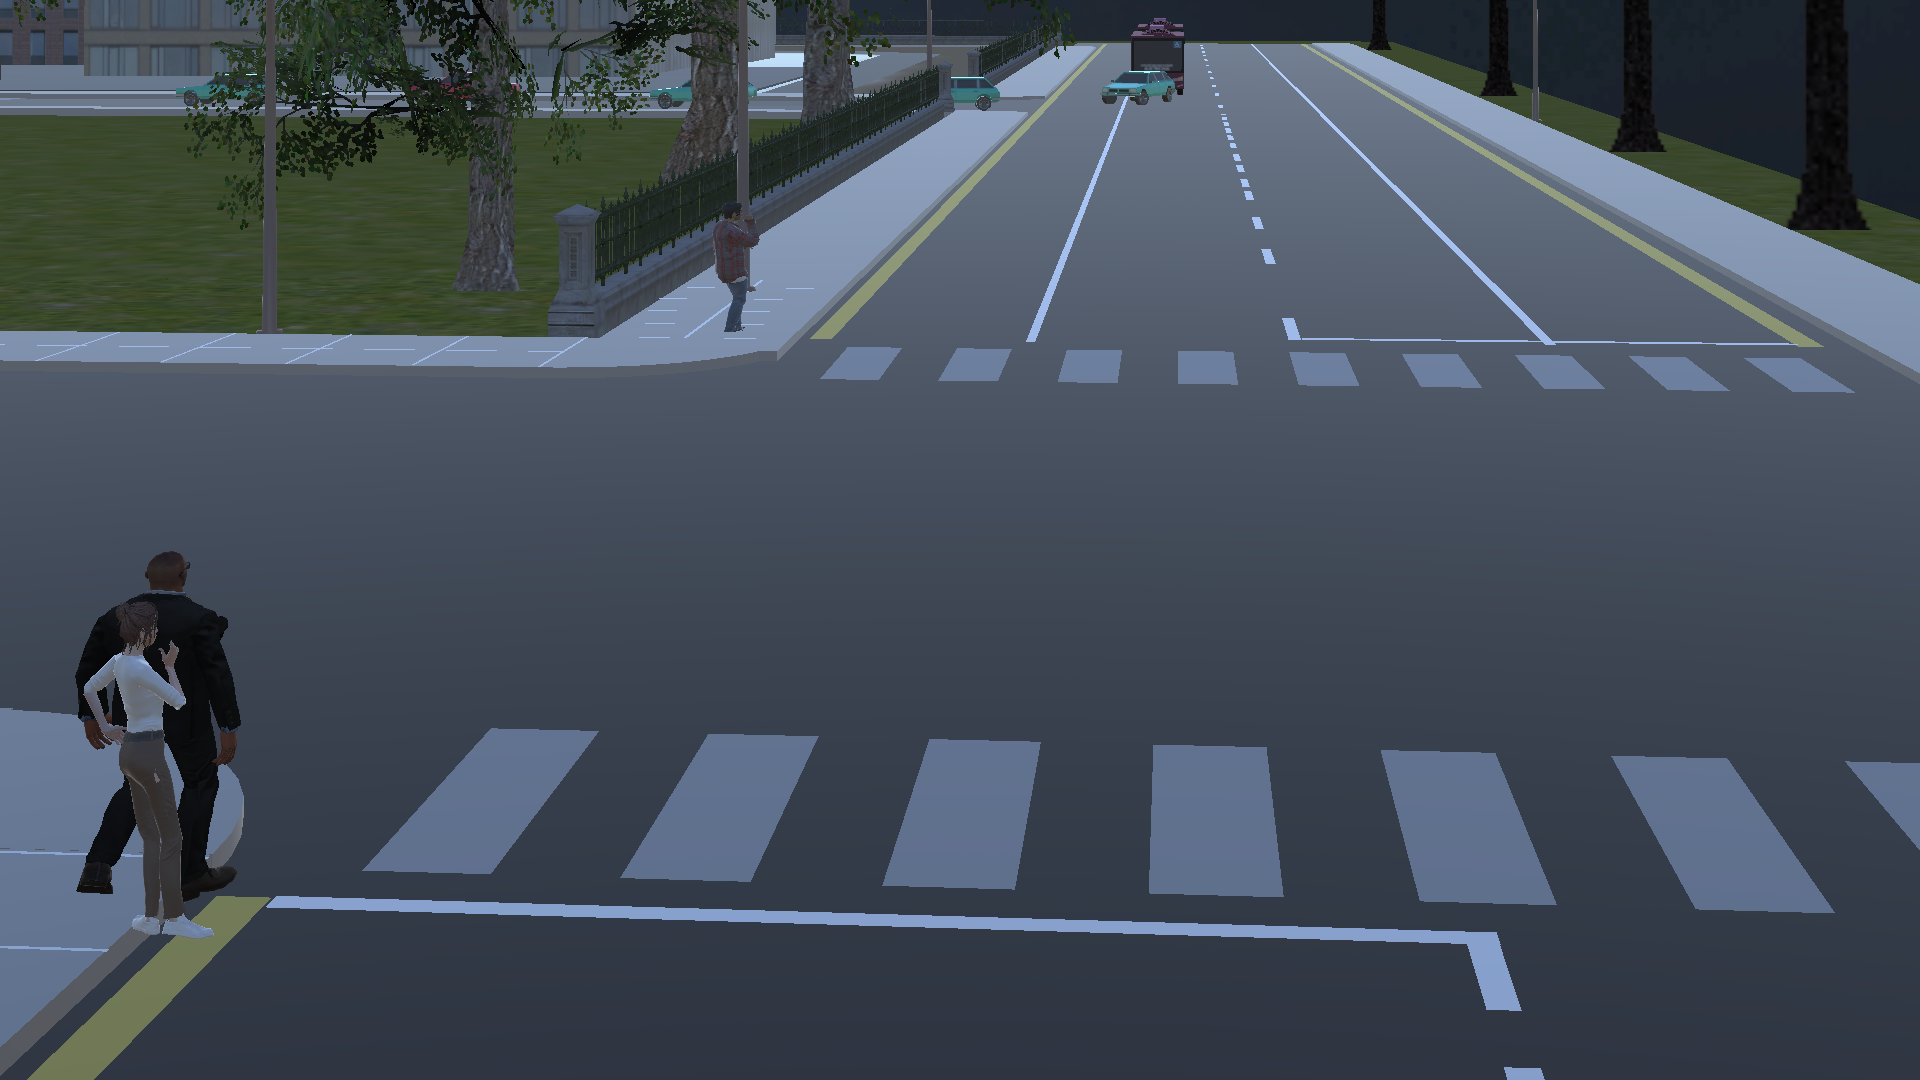pedestrian: (145, 541, 320, 911), (79, 605, 229, 946), (702, 186, 764, 344)
